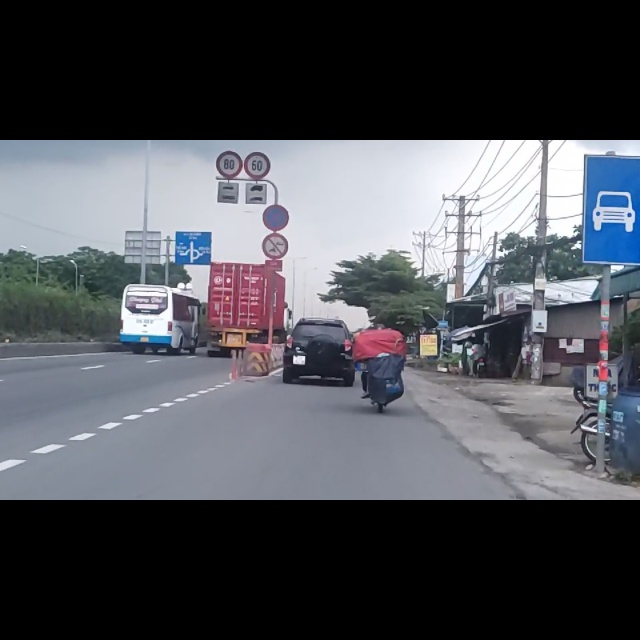bien_cam: (215, 19, 243, 69), (261, 113, 290, 160), (244, 20, 271, 70), (261, 164, 289, 212)
